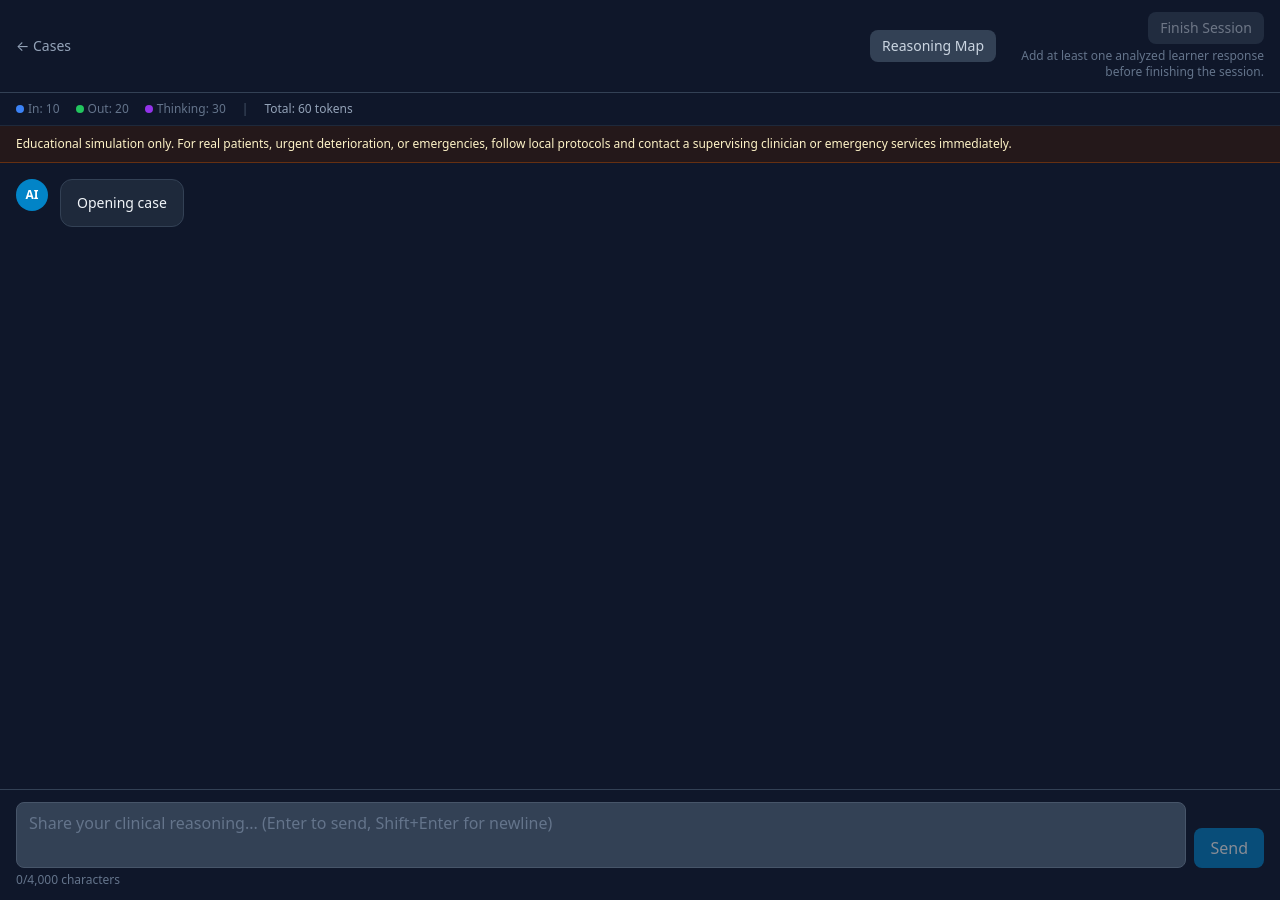
SessionPage › shows clinical review guidance when streaming is blocked by case quality
Replace the text in the text box with placeholder "Share your clinical reasoning" with "My reasoning" at (601, 835), box [16,802,1186,868]
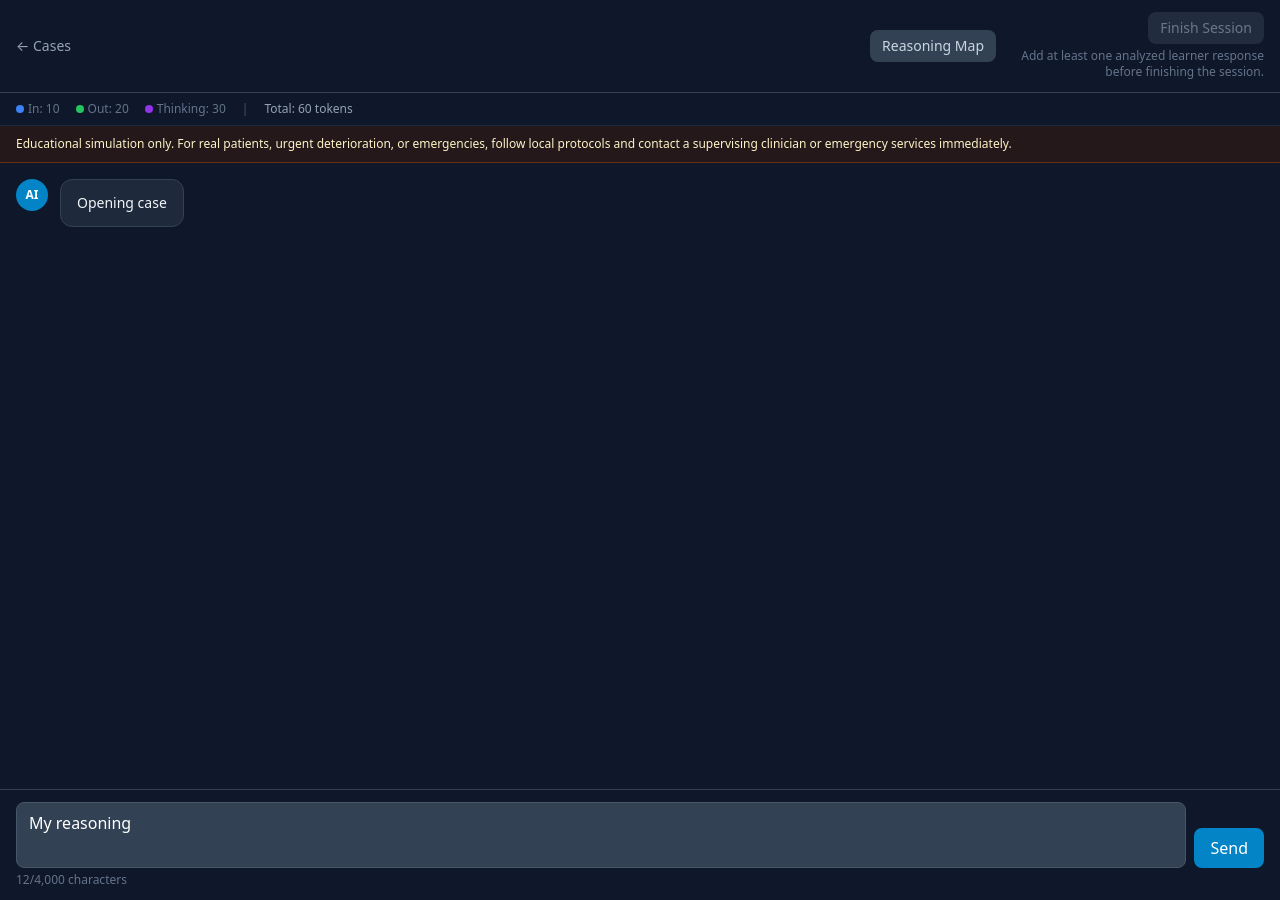
Click the button "Send" at (1229, 848), box [1194,828,1264,868]
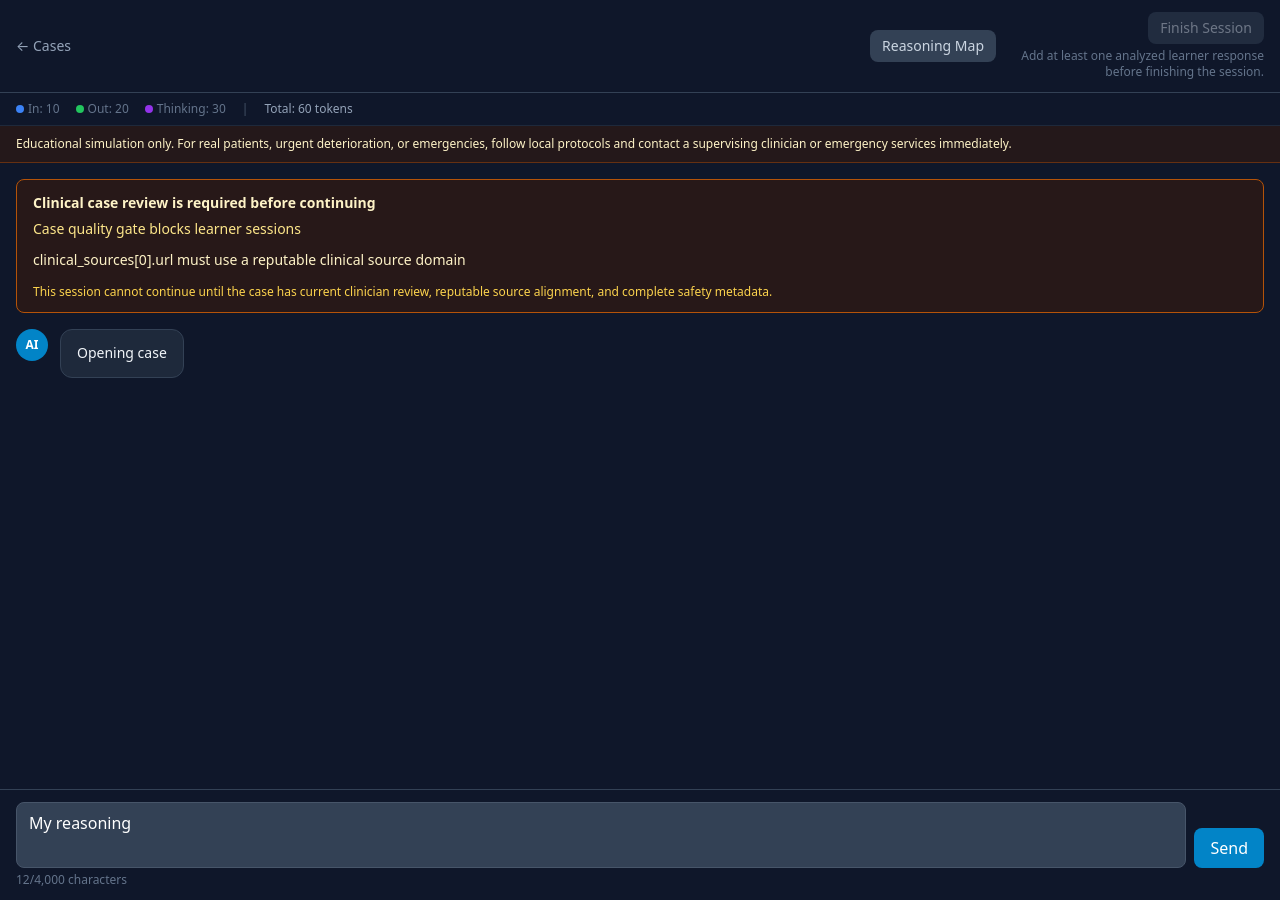
Check: the text "Clinical case review is required before continuing" is shown, box [33,192,376,212]
Check: the list item "reputable clinical source domain" is shown, box [33,250,466,269]
Check: the text "current clinician review" is shown, box [33,283,772,300]
